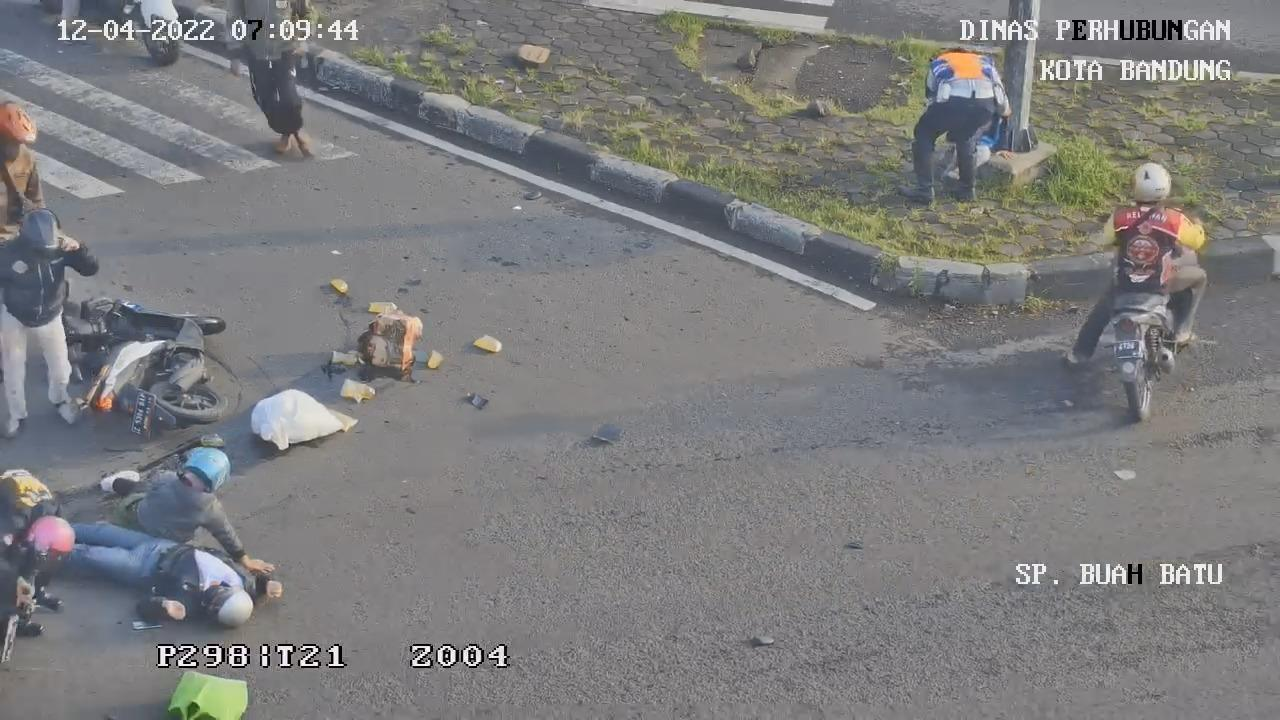accident: (91, 433, 291, 579), (19, 515, 262, 632)
